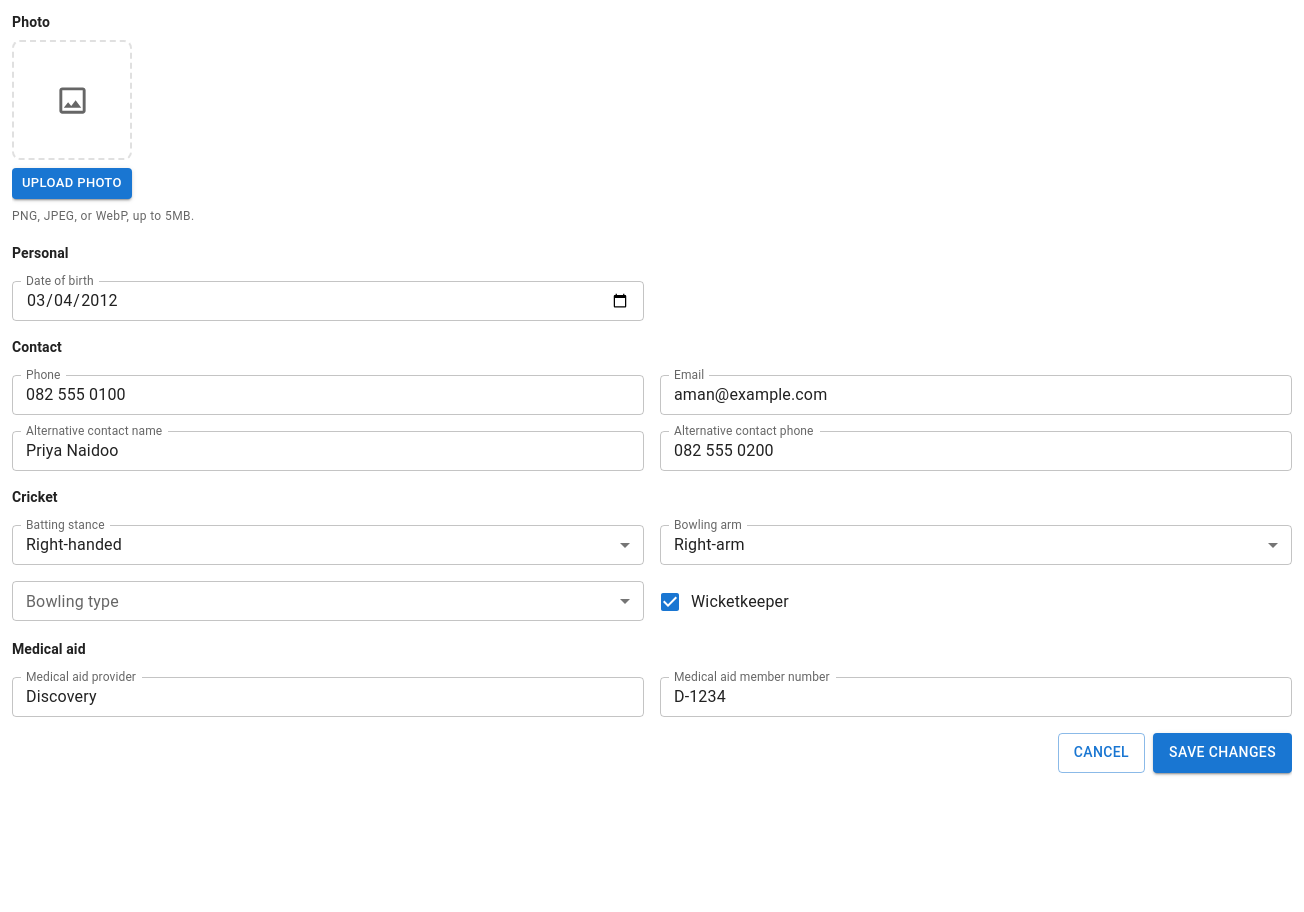
Test: MyPlayerEditForm saving and leaving › validates the email format
Replace the text in the field labelled "Email" with "not-an-email": (976, 395) [660,375,1292,415]
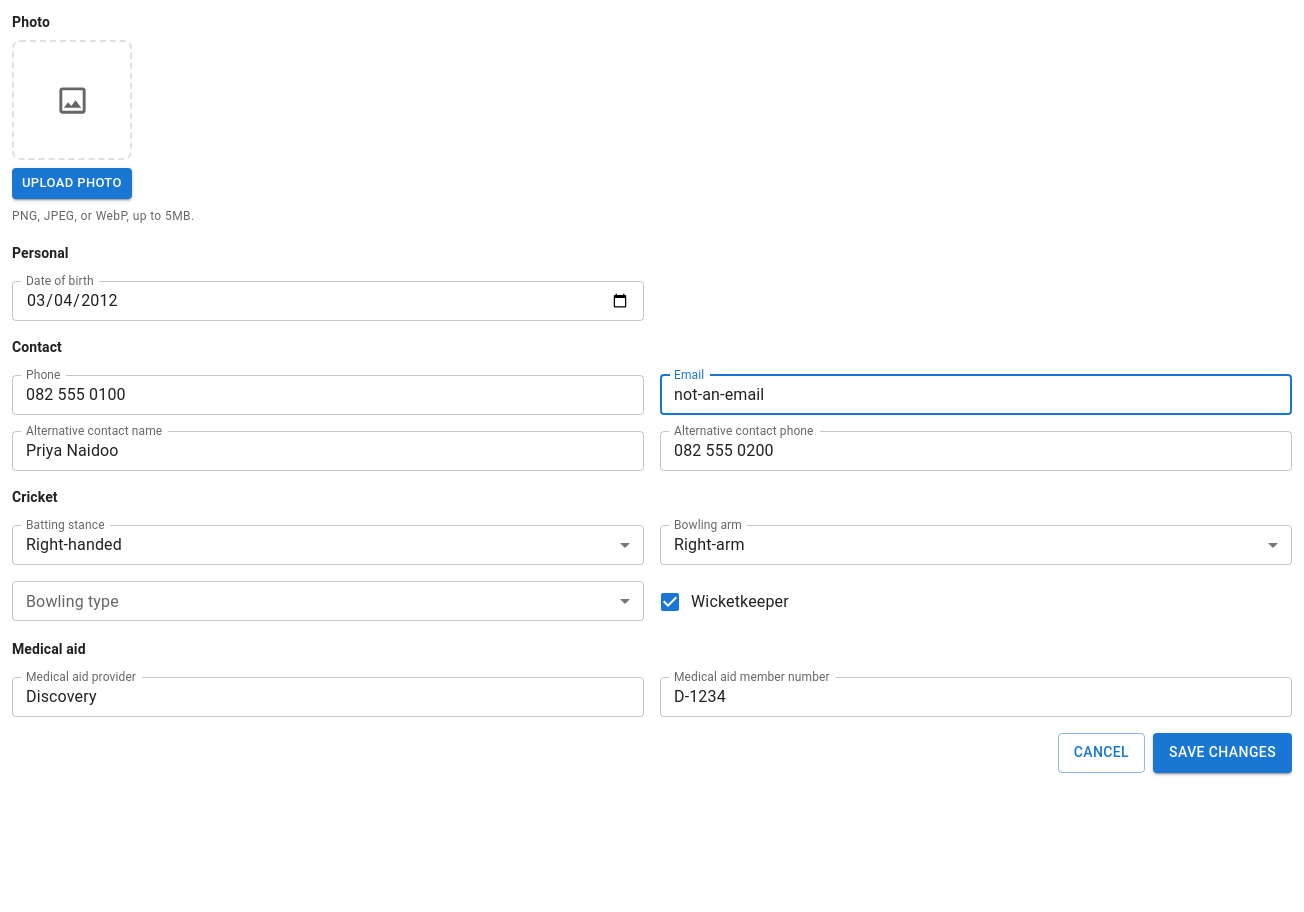
Click the button "Save changes": (1223, 752) [1153,732,1292,772]
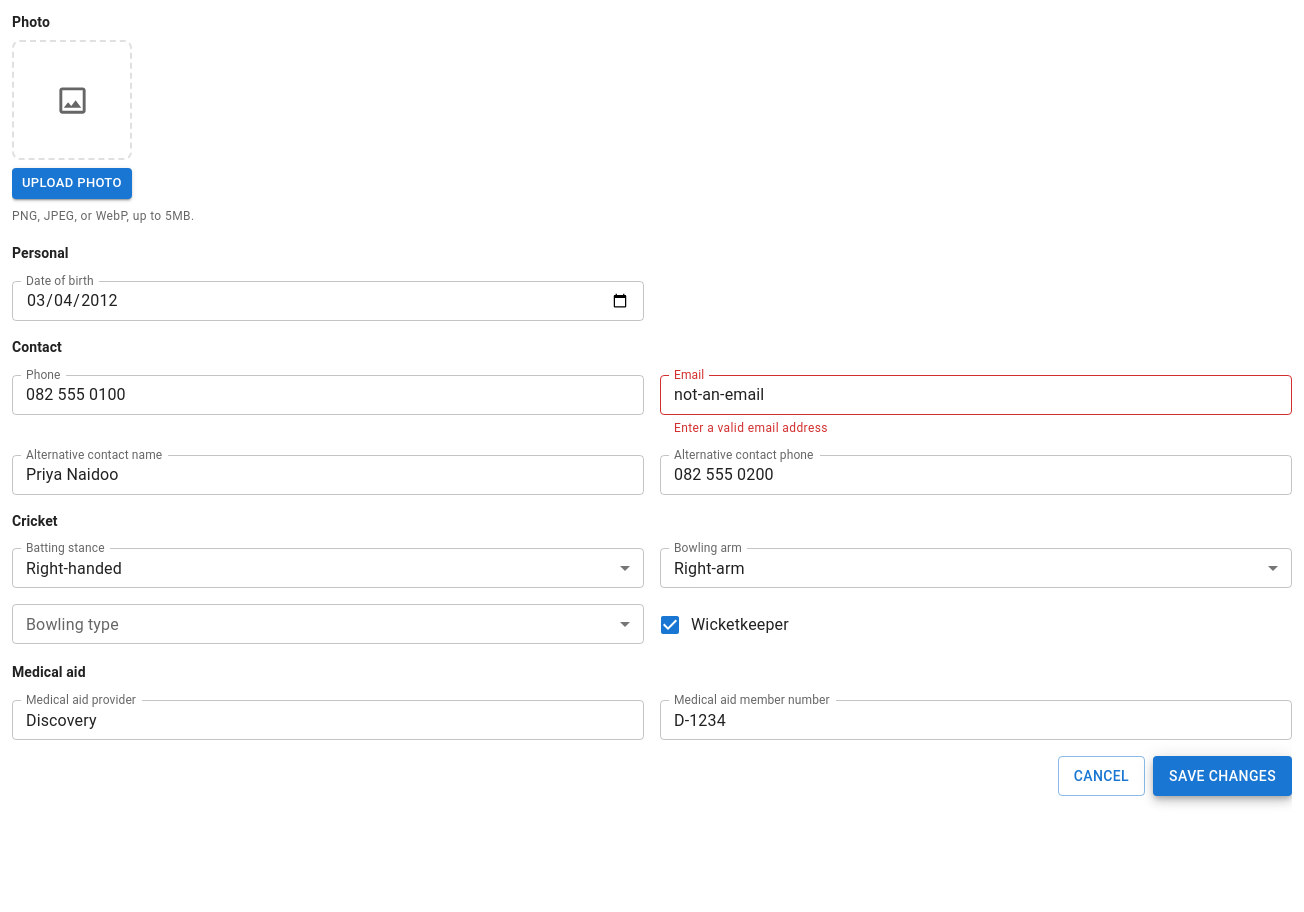
Check: the text "Enter a valid email address" is shown, box [674,421,828,435]
